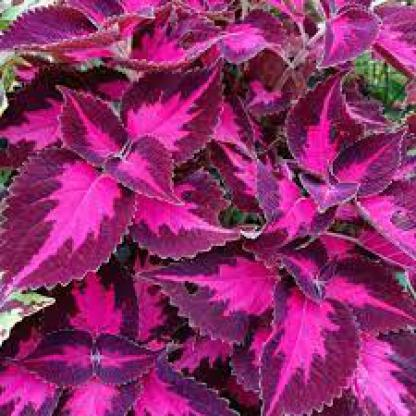Bunga Coleus: (22, 10, 414, 393)
